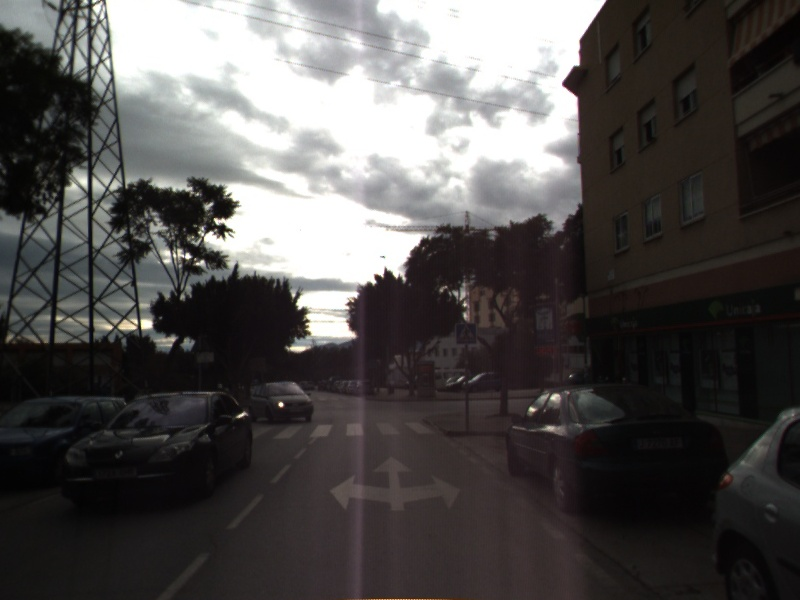STRAIGHT_LEFT_RIGHT: (327, 454, 463, 512)
